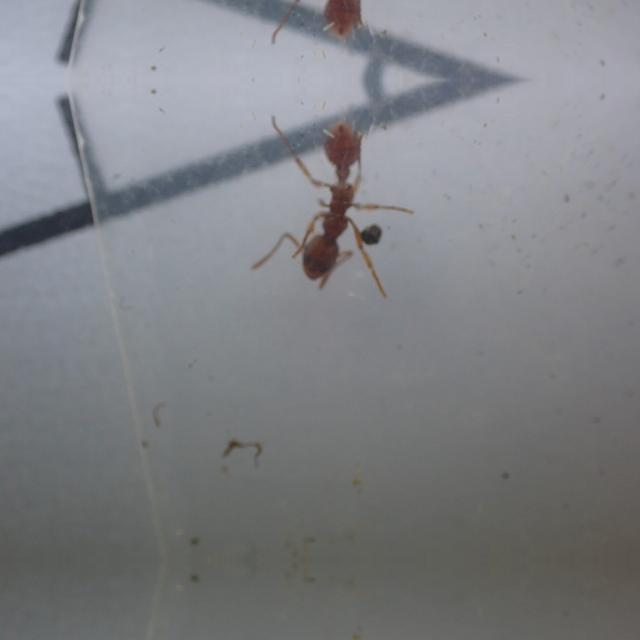Myrmica: (262, 98, 412, 298), (262, 0, 412, 62)
